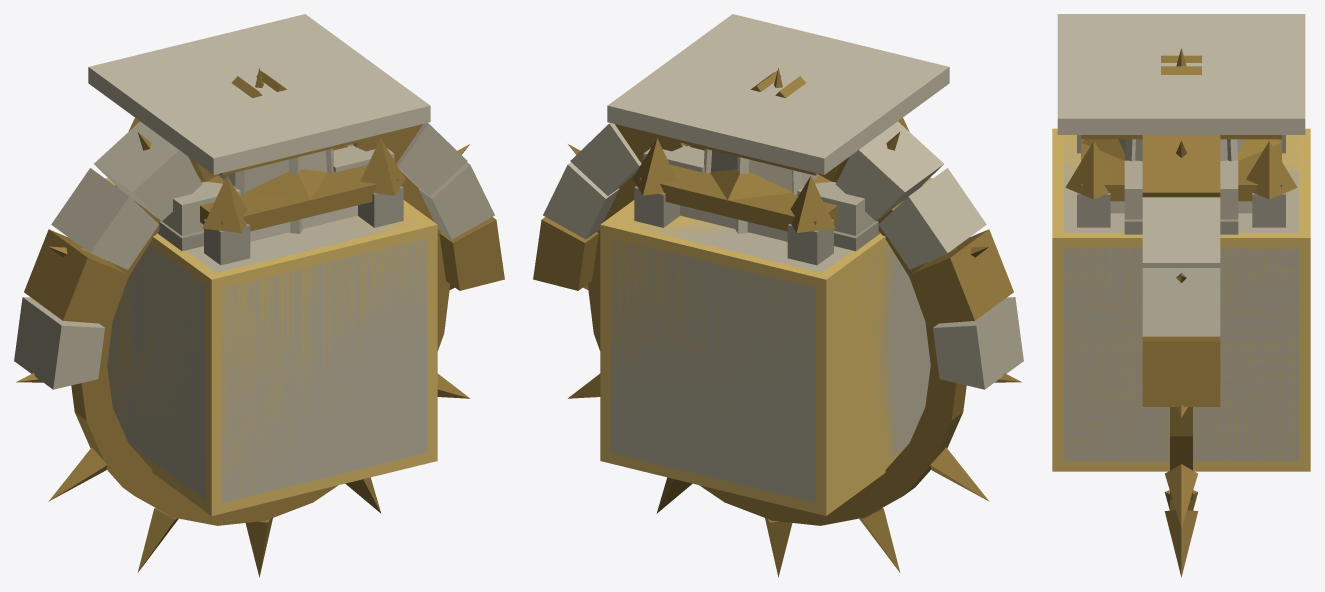
The model's file is palace-kit.glb.
3 views of the same model, side by side, from view 1: azimuth 30°, elevation 25°; view 2: azimuth 150°, elevation 25°; view 3: azimuth 270°, elevation 25° (orthographic).
Parts seen in each view (by area): view 1: stone, glow, pillar, arch, ring, crag, furnace; view 2: stone, glow, pillar, arch, ring, crag, furnace; view 3: stone, pillar, glow, arch, crag, ring, furnace.
Part boxes in pixels (box(x1,y1,x2,y2)): stone: box(107, 213, 427, 502); glow: box(105, 178, 437, 515); pillar: box(88, 14, 430, 233); arch: box(14, 121, 504, 389); ring: box(16, 67, 469, 577); crag: box(115, 118, 405, 265); furnace: box(157, 71, 394, 251); stone: box(610, 217, 930, 502); glow: box(600, 178, 932, 515); pillar: box(607, 14, 949, 233); arch: box(533, 121, 1023, 389); ring: box(568, 67, 1021, 577); crag: box(632, 118, 922, 265); furnace: box(643, 71, 880, 251); stone: box(1064, 135, 1298, 461); pillar: box(1057, 14, 1305, 161); glow: box(1052, 128, 1310, 471); arch: box(1142, 135, 1220, 406); crag: box(1065, 135, 1297, 227); ring: box(1164, 48, 1198, 577); furnace: box(1124, 55, 1238, 234).
Size of the model in its own units: 2.16 by 2.16 by 1.
